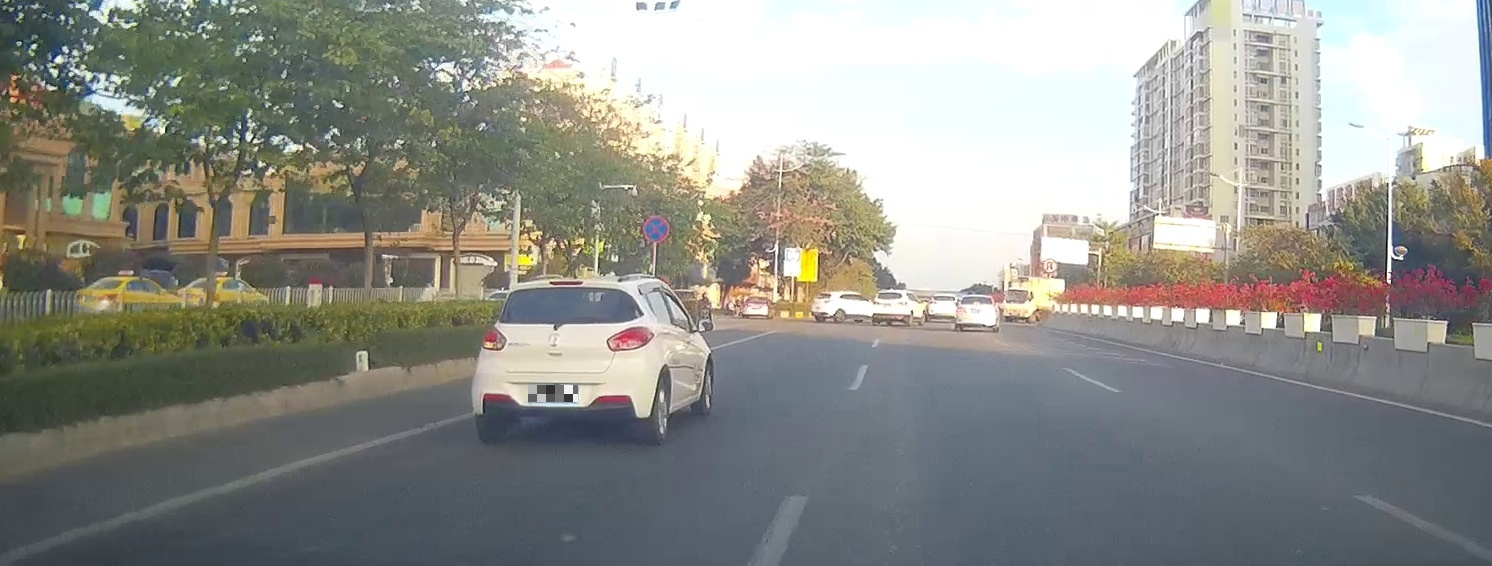L_light: (480, 325, 507, 351)
R_light: (606, 325, 654, 352)
T_light: (549, 281, 582, 285)
day-left: (471, 279, 657, 447)
plate_1: (528, 385, 578, 402)
